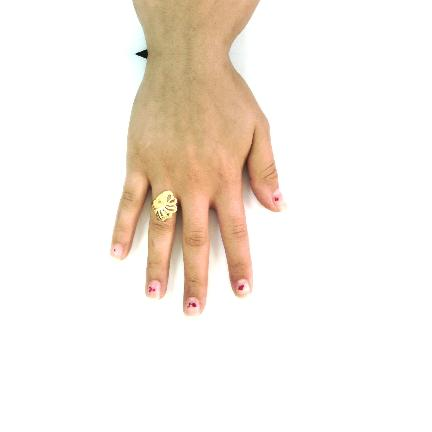Nail: (272, 188, 289, 212), (184, 297, 200, 316), (235, 279, 251, 297), (147, 280, 161, 300), (110, 244, 123, 259)
